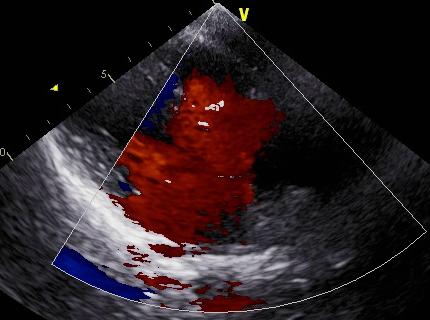AR: (167, 119, 261, 184)
